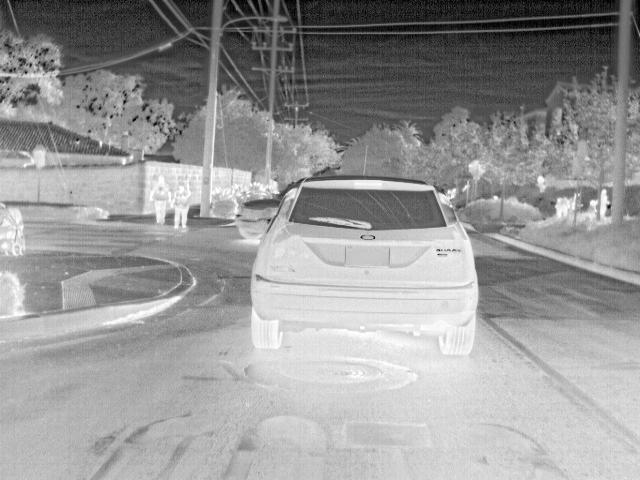car: (249, 174, 480, 358), (236, 195, 279, 243)
person: (153, 174, 168, 224), (174, 183, 191, 227), (600, 184, 614, 218), (589, 194, 603, 217), (553, 195, 566, 219), (570, 198, 580, 214)
